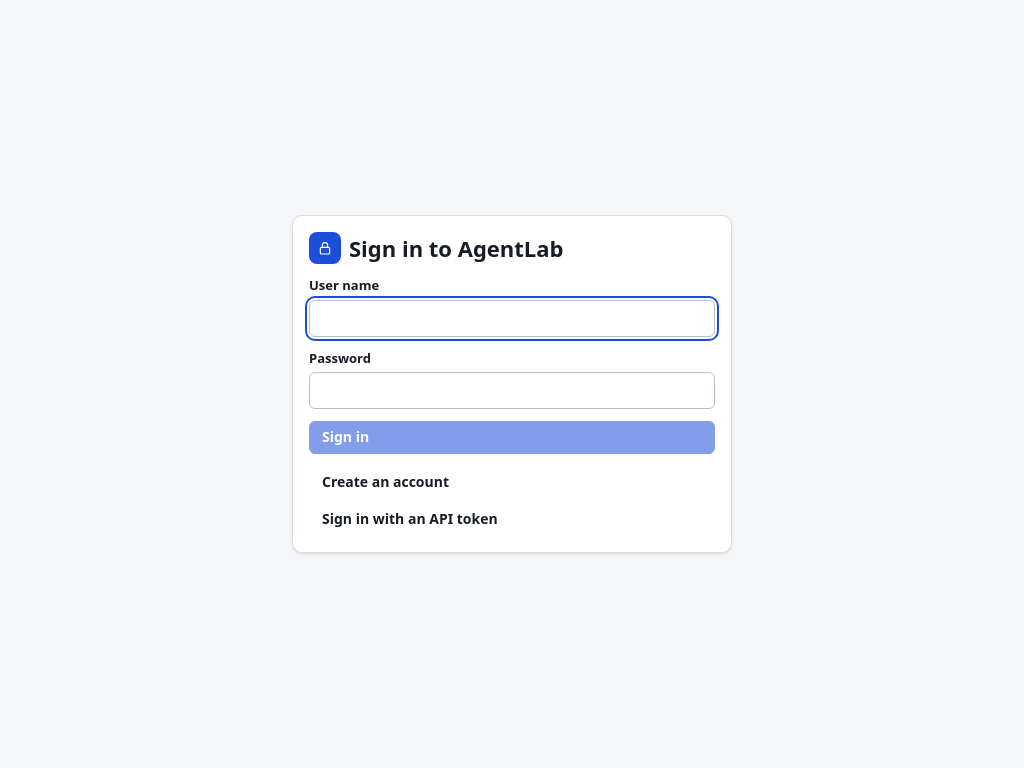
Test: signing in with a user name and password › opens the interface for a maintainer, and sends the CSRF token with a change but never an API token
Type "alice" into the field labelled "User name" at coordinates (512, 318), box [309,300,715,337]
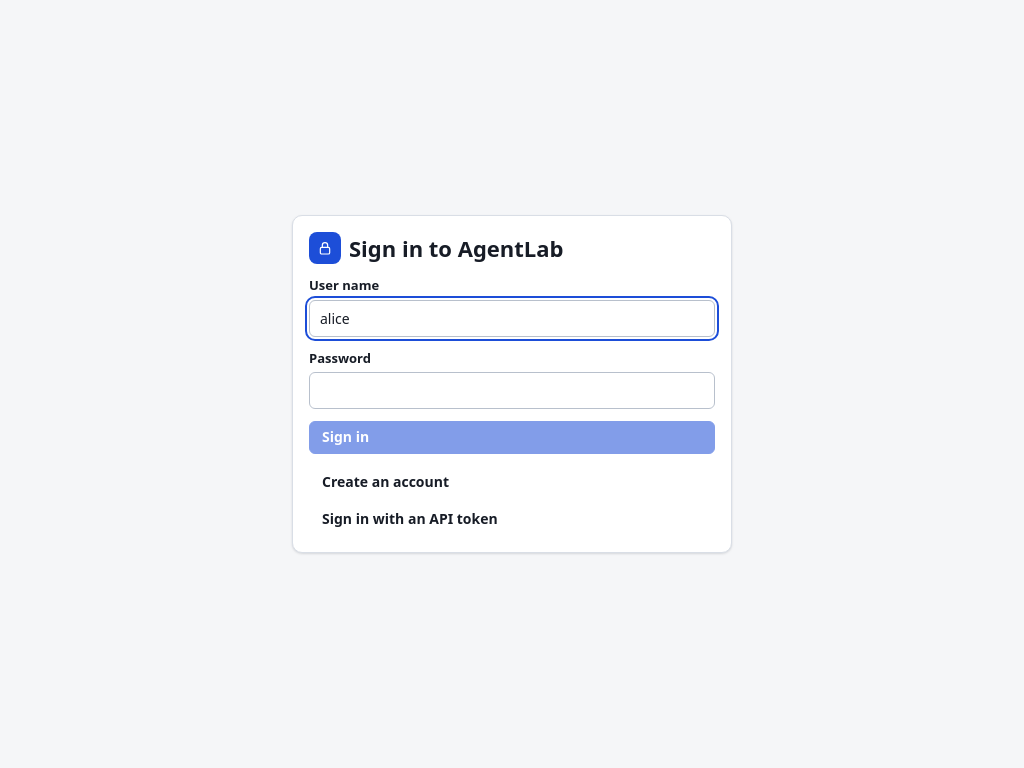
Type "correct-horse-battery-7" into the password field labelled "Password" at coordinates (512, 391), box [309,372,715,409]
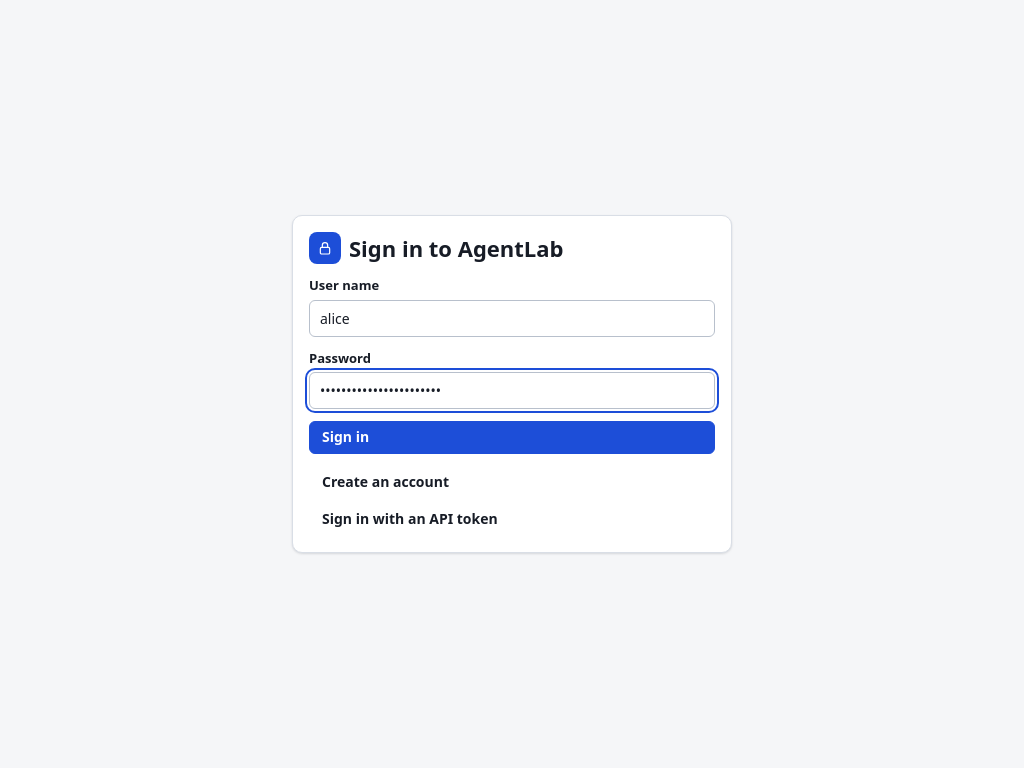
Click the button "Sign in" at coordinates (346, 437), box [309,421,715,454]
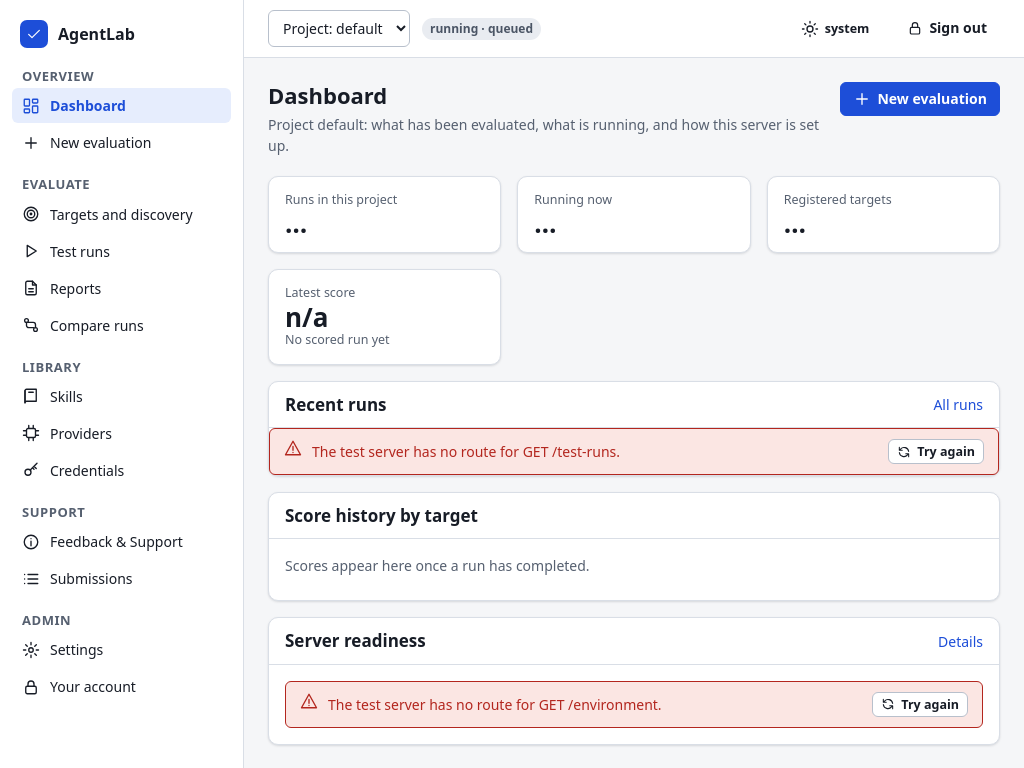
Check: the dropdown named "Project" is shown, box [268,10,410,47]
